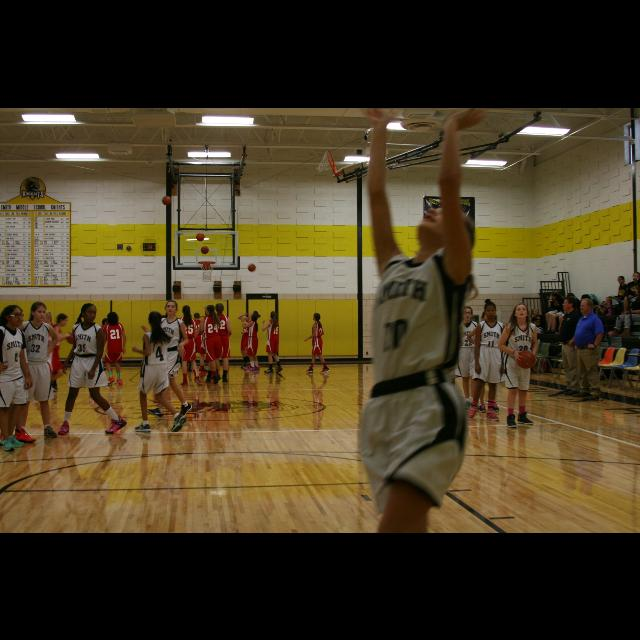head: (416, 204, 476, 262), (5, 304, 23, 326), (80, 303, 98, 323), (31, 301, 47, 321), (148, 310, 164, 328), (10, 307, 24, 327), (514, 302, 530, 318), (580, 298, 594, 314), (563, 296, 577, 310), (165, 300, 179, 314), (485, 302, 497, 318), (482, 308, 494, 322), (462, 306, 474, 320), (204, 304, 216, 316), (58, 313, 68, 327), (205, 304, 215, 316), (109, 312, 118, 322), (270, 310, 278, 320), (249, 309, 259, 317), (216, 302, 224, 312), (182, 304, 190, 314), (617, 276, 625, 284), (567, 292, 575, 300), (532, 307, 540, 315), (313, 313, 321, 321), (251, 313, 259, 321), (193, 312, 200, 320), (552, 292, 558, 300)
person: (56, 301, 130, 437), (132, 309, 188, 433), (12, 300, 60, 440), (140, 299, 194, 421), (496, 300, 540, 430), (465, 297, 509, 423), (0, 306, 38, 446), (0, 303, 32, 453), (466, 308, 502, 414), (571, 296, 605, 402), (454, 304, 484, 410), (558, 295, 584, 397), (175, 304, 205, 388), (42, 311, 72, 393), (205, 301, 233, 383), (98, 310, 128, 386), (191, 304, 219, 380), (198, 304, 224, 384), (303, 312, 331, 374), (260, 310, 284, 374), (237, 309, 261, 369), (187, 312, 210, 372), (240, 312, 260, 372), (604, 274, 632, 316), (555, 292, 581, 334), (528, 306, 548, 346), (544, 292, 562, 332), (550, 290, 566, 334)
